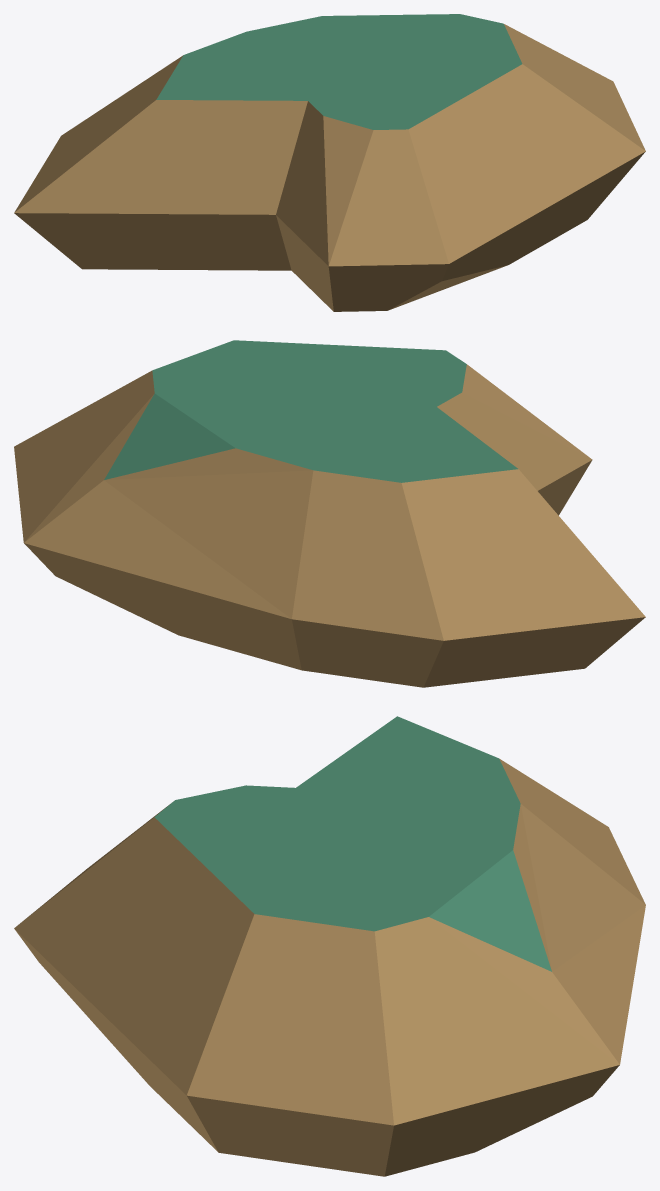
Rendered from Rock_Medium_Mesa_Eroded_Moss_Grass_Flat_02.FBX.
The picture shows the model from 3 angles, top to bottom: view 1: azimuth 30°, elevation 25°; view 2: azimuth 150°, elevation 25°; view 3: azimuth 270°, elevation 25°; orthographic projection. The views are drawn at different scales.
Visible parts, largest first — view 1: Rock_Medium_Mesa_Eroded_Moss_Grass_Flat_02; view 2: Rock_Medium_Mesa_Eroded_Moss_Grass_Flat_02; view 3: Rock_Medium_Mesa_Eroded_Moss_Grass_Flat_02.
Part boxes in pixels (x1=…): Rock_Medium_Mesa_Eroded_Moss_Grass_Flat_02: x1=14, y1=14, x2=645, y2=311; Rock_Medium_Mesa_Eroded_Moss_Grass_Flat_02: x1=14, y1=340, x2=645, y2=687; Rock_Medium_Mesa_Eroded_Moss_Grass_Flat_02: x1=14, y1=716, x2=645, y2=1176.
Size of the model in its own units: 5902 by 1527 by 4246.
